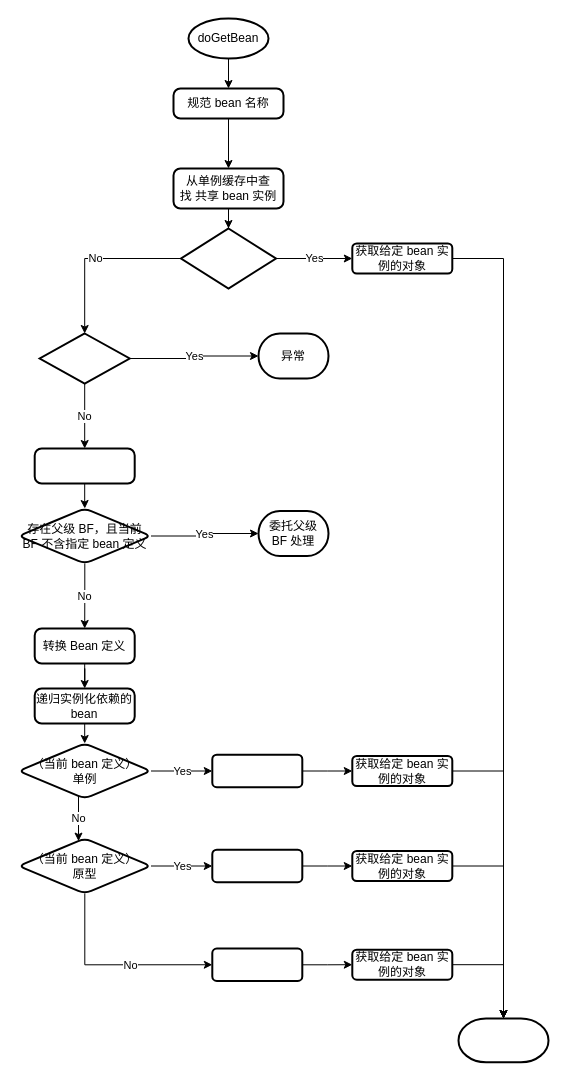
This 566x1080 diagram has some shape labels left out. Each missing label, with the box of its shape:
原型循环引用: (38, 332, 130, 384)
找到 bean 实例，且无参: (180, 227, 276, 289)
获取 bean 实例: (211, 947, 303, 982)
获取共享实例: (211, 753, 303, 788)
获取原型实例: (211, 848, 303, 883)
获取父级 BeanFactory: (33, 447, 135, 484)
适配 bean 实例: (457, 1017, 549, 1063)
